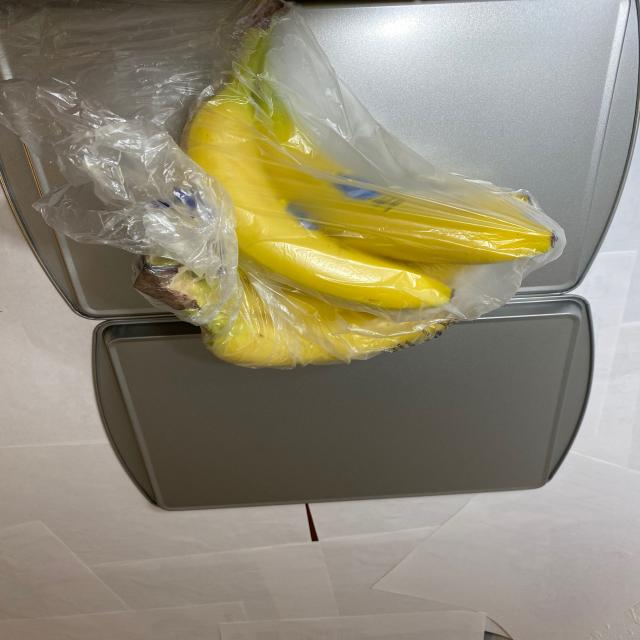banana: (132, 4, 562, 376)
